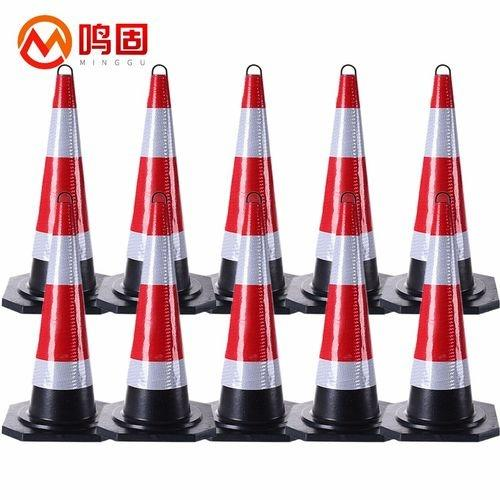cone_barrel: (396, 193, 487, 438), (298, 193, 386, 435), (109, 197, 201, 428), (13, 200, 102, 432), (114, 69, 203, 300), (395, 64, 480, 303), (18, 65, 103, 301), (301, 69, 385, 301), (210, 63, 291, 302)
